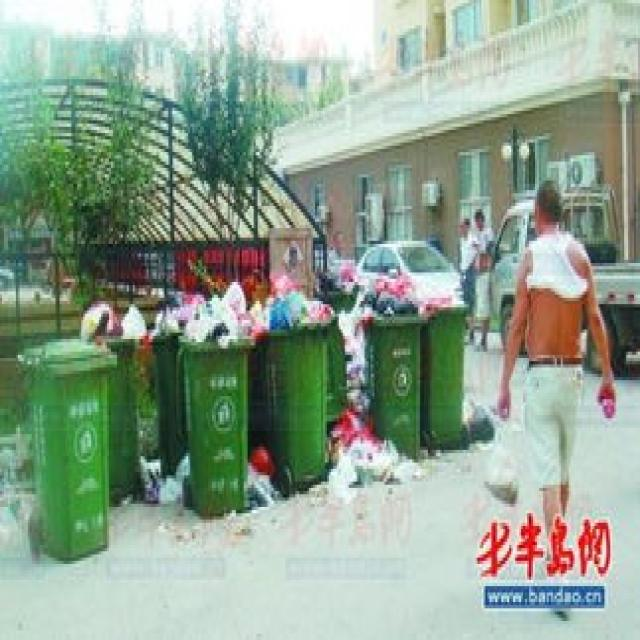garbage: (327, 406, 418, 484), (137, 450, 188, 500), (242, 443, 279, 507)
garbage_bin: (16, 336, 117, 561)
overflow: (178, 279, 252, 513), (261, 269, 331, 482), (79, 301, 145, 501), (361, 269, 418, 456), (418, 292, 470, 444), (151, 292, 182, 476)
